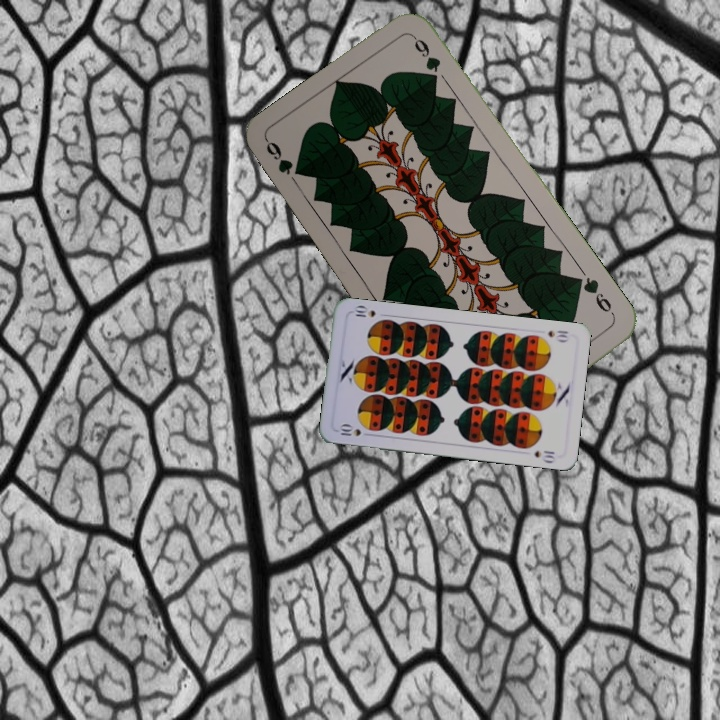G9: (572, 272, 618, 320), (261, 137, 295, 178)
S10: (336, 421, 374, 439), (544, 326, 572, 344)
